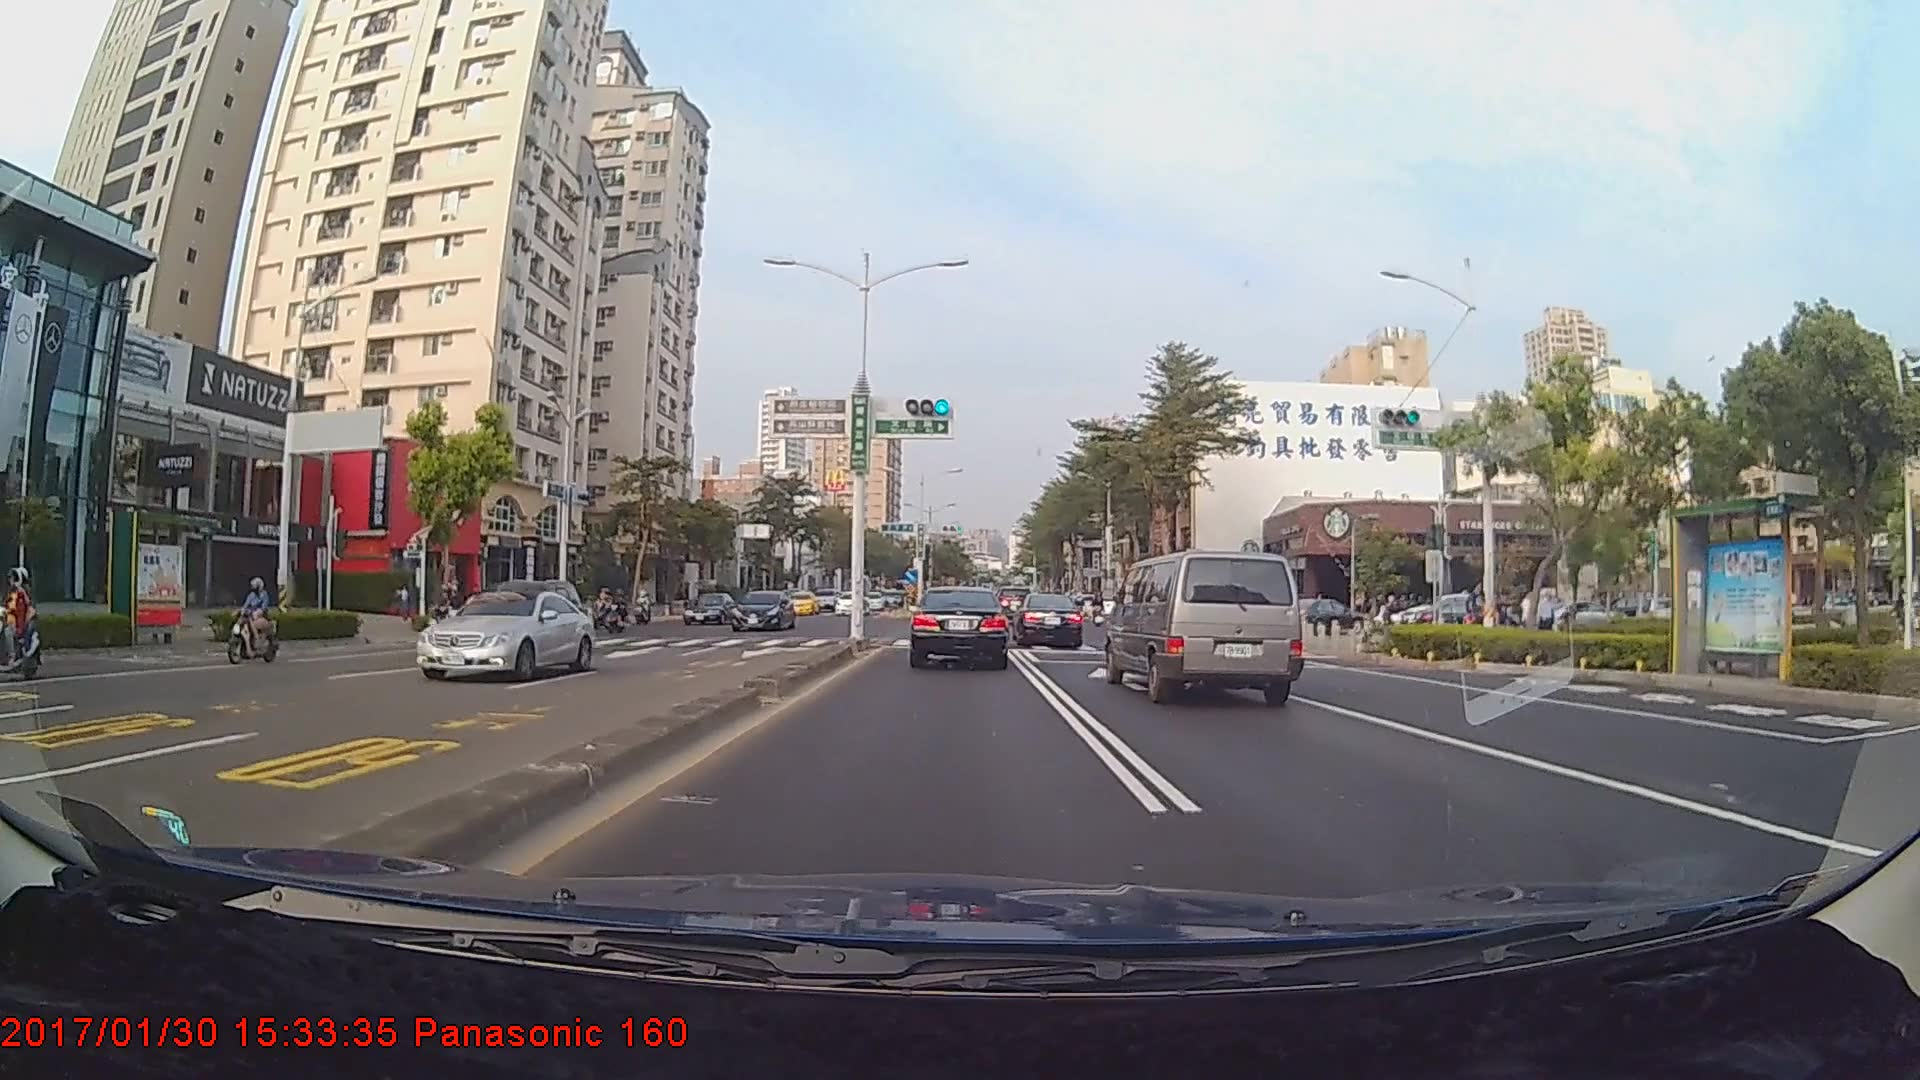pedestrian: (1535, 591, 1556, 649)
rider: (214, 573, 284, 665), (1, 570, 42, 679), (425, 578, 473, 647)
vehicle: (1105, 548, 1308, 704), (411, 586, 598, 681), (910, 584, 1009, 669), (480, 578, 583, 655), (1012, 592, 1084, 649), (726, 589, 796, 634), (682, 593, 738, 625), (833, 591, 872, 614)
